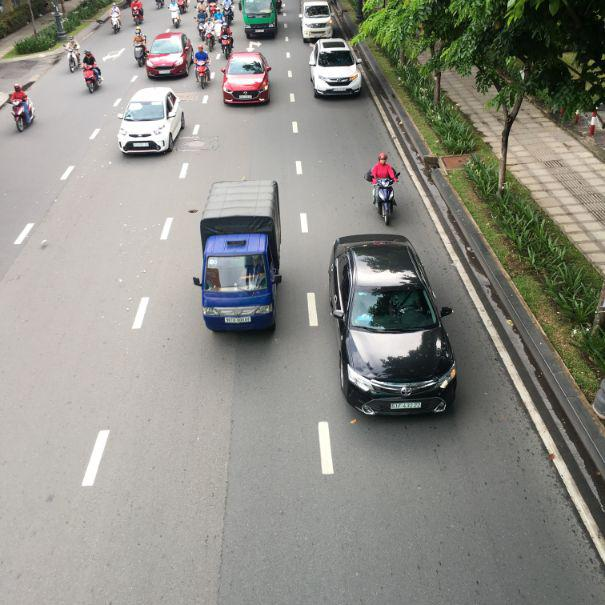car: (330, 234, 460, 420), (117, 88, 185, 156), (310, 39, 364, 99), (222, 50, 275, 107), (144, 28, 195, 81), (301, 0, 334, 42)
motorbike: (371, 179, 396, 225), (83, 64, 102, 94), (111, 8, 122, 33)
truck: (199, 180, 283, 335), (239, 0, 281, 39)
